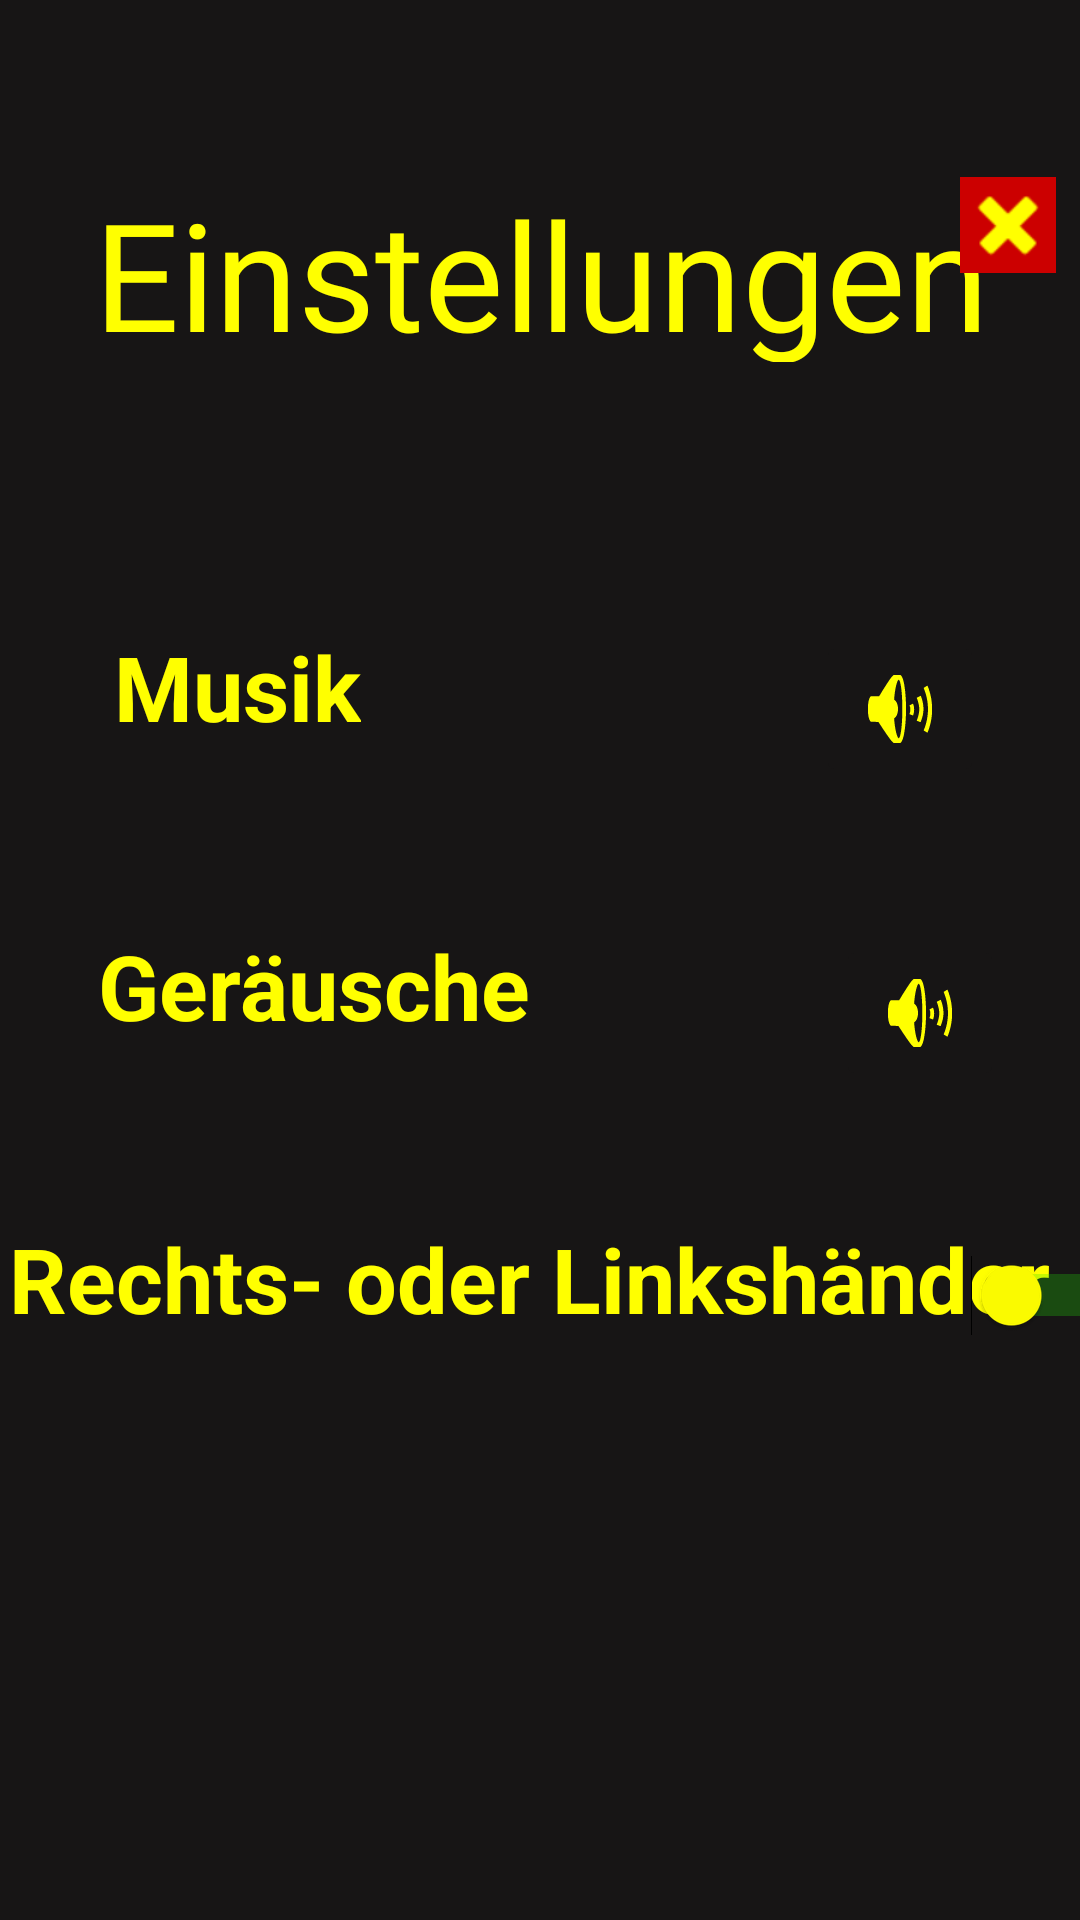

Icons on this 1080×1920 Android screen, each with its box as (x1, y1, x2, y2):
delete: (960, 177, 1056, 273)
